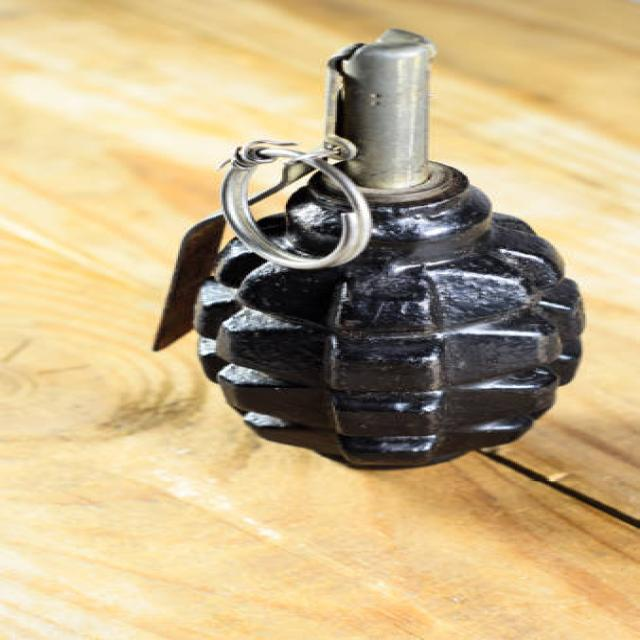grenade: (142, 27, 592, 473)
